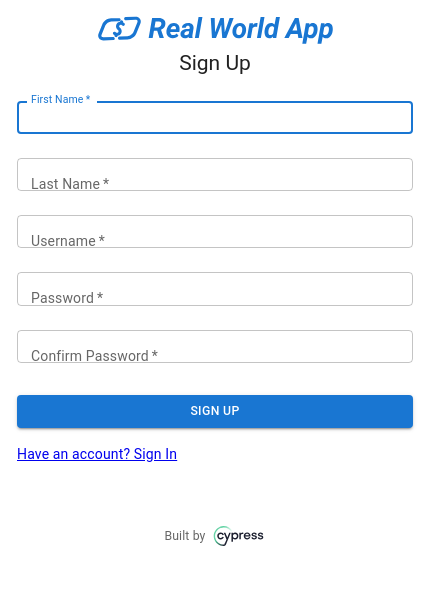
SignUp page › should throw an error if password and confirm password mismatched
Type "password123" into the password field labelled "Password *" at [215, 289], box [17,272,413,305]
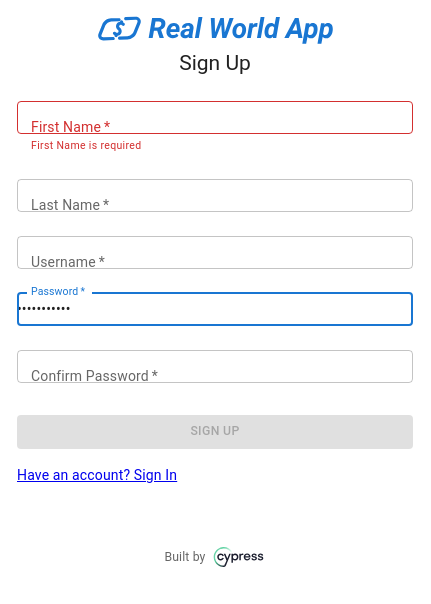
Type "password" into the password field with id "confirmPassword" at [215, 367], box [17,350,413,383]
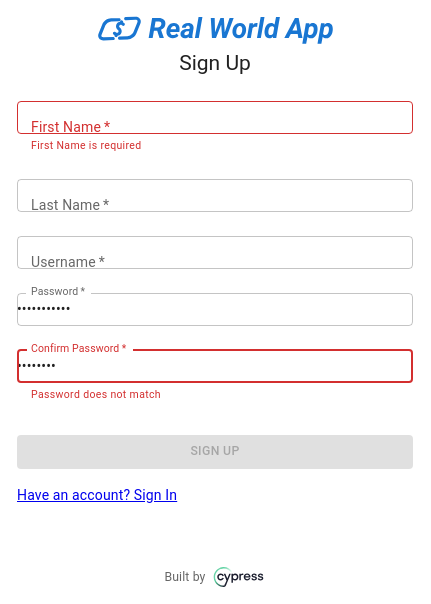
Check: the text "Password does not match" is shown, box [31,388,161,401]
